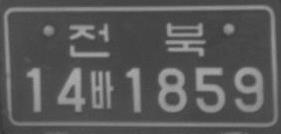1: (121, 66, 149, 114), (21, 66, 50, 112)
4: (56, 66, 86, 113)
5: (195, 67, 226, 114)
8: (157, 67, 187, 113)
9: (233, 66, 264, 113)
바: (90, 70, 114, 109)
전북_D: (68, 21, 206, 60)
